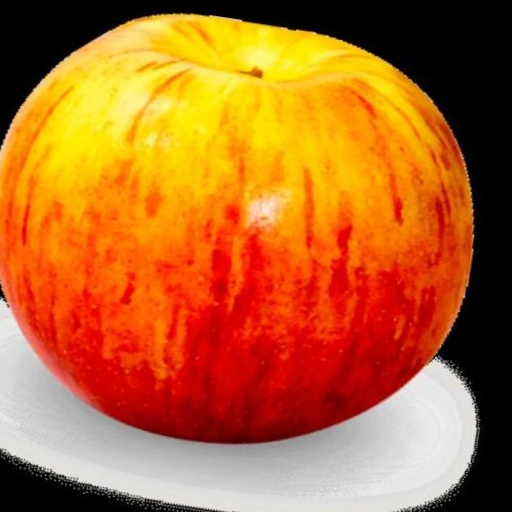fruit: (0, 15, 472, 442)
